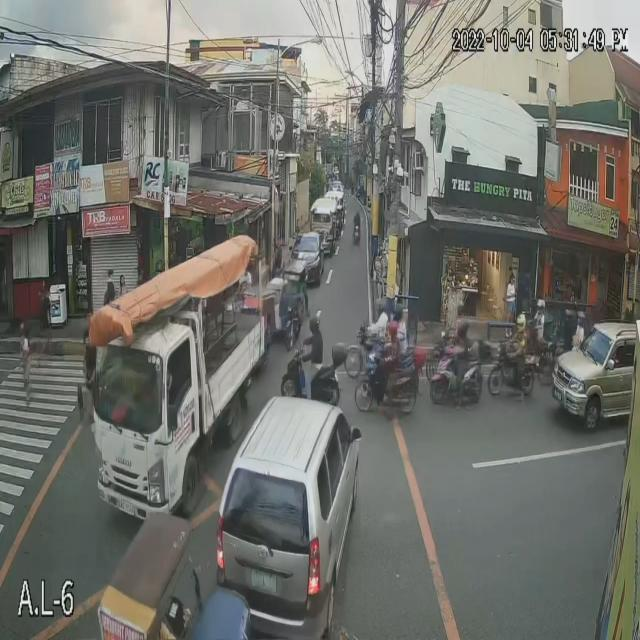full: (516, 312, 526, 336)
